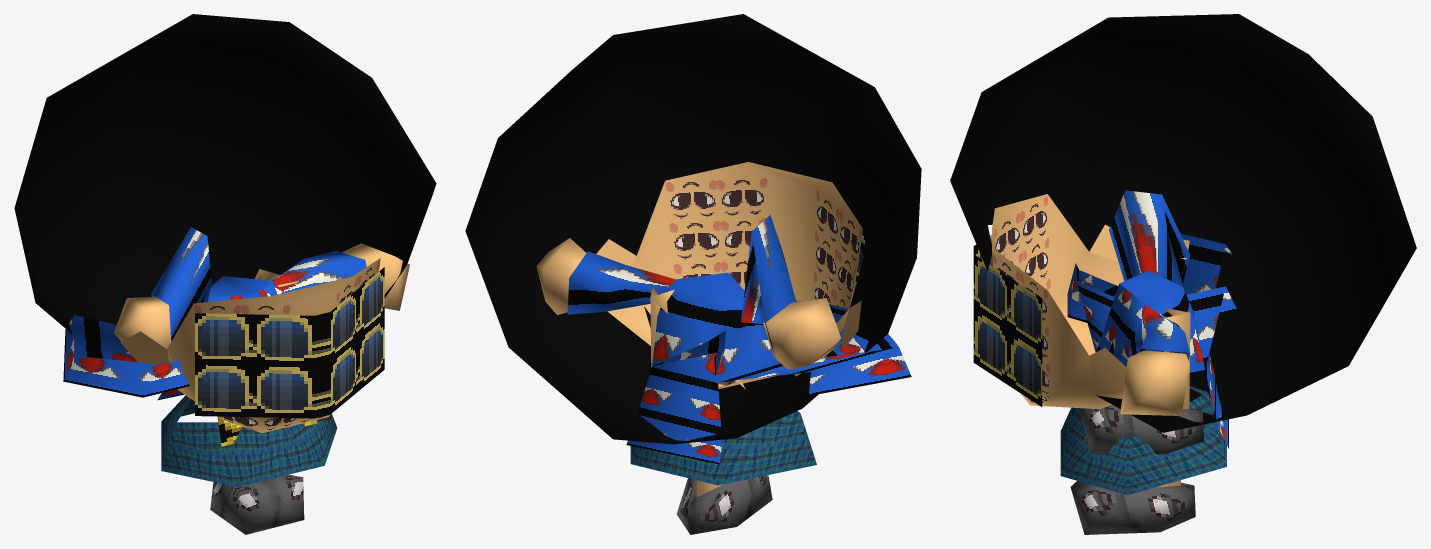
3 renders of one model, left to right at view 1: azimuth 30°, elevation 25°; view 2: azimuth 150°, elevation 25°; view 3: azimuth 270°, elevation 25°, orthographic. The views are drawn at different scales.
Parts seen in each view (by area): view 1: pmd47_00_01; view 2: pmd47_00_01; view 3: pmd47_00_01.
Boxes of the visible parts, x1,y1,x2,y2 form: pmd47_00_01: (14, 14, 436, 534); pmd47_00_01: (465, 14, 921, 534); pmd47_00_01: (950, 14, 1416, 534).
Bounding box in the file's own units: 1.25 × 1.51 × 1.32.
8 materials, 8 textured.
